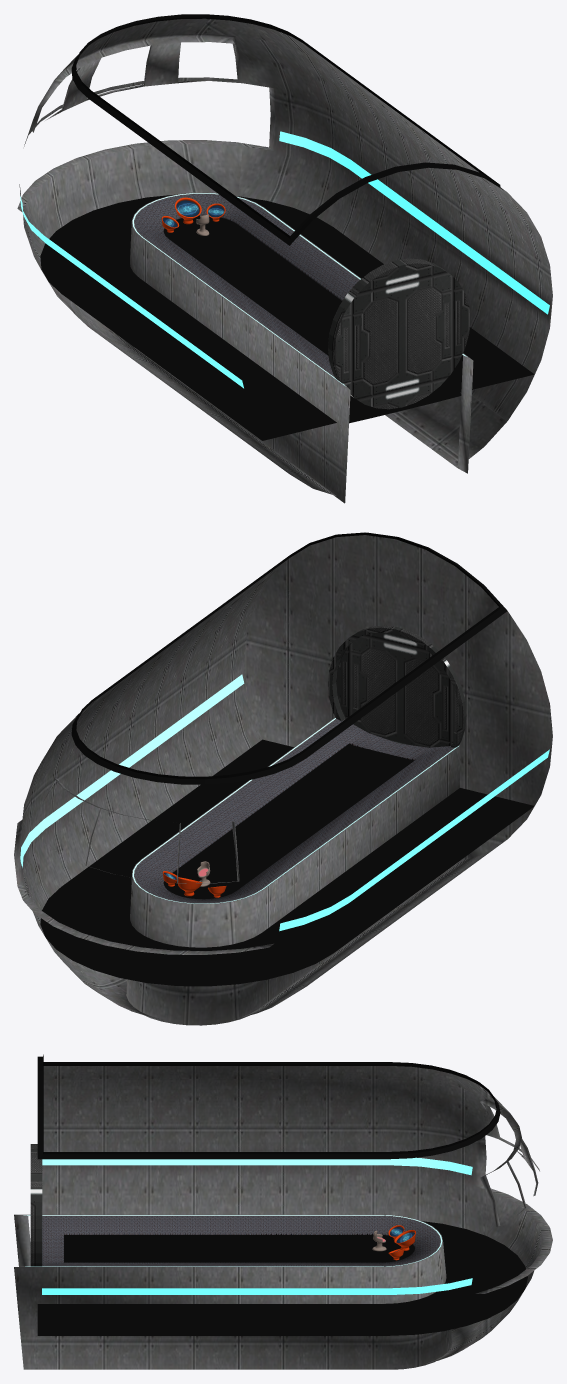
Rendered from ship2.glb.
The picture shows the model from 3 angles, top to bottom: view 1: azimuth 30°, elevation 25°; view 2: azimuth 150°, elevation 25°; view 3: azimuth 270°, elevation 25°; orthographic projection. The views are drawn at different scales.
Visible parts, largest first — view 1: Sci-Fi Space Station; view 2: Sci-Fi Space Station; view 3: Sci-Fi Space Station.
Part boxes in pixels (x1,y1,x2,y2): Sci-Fi Space Station: [17, 14, 552, 503]; Sci-Fi Space Station: [14, 532, 552, 1025]; Sci-Fi Space Station: [14, 1054, 552, 1369].
Bounding box in the file's own units: 20.08 × 20.25 × 34.67.
11 materials, 4 textured.
